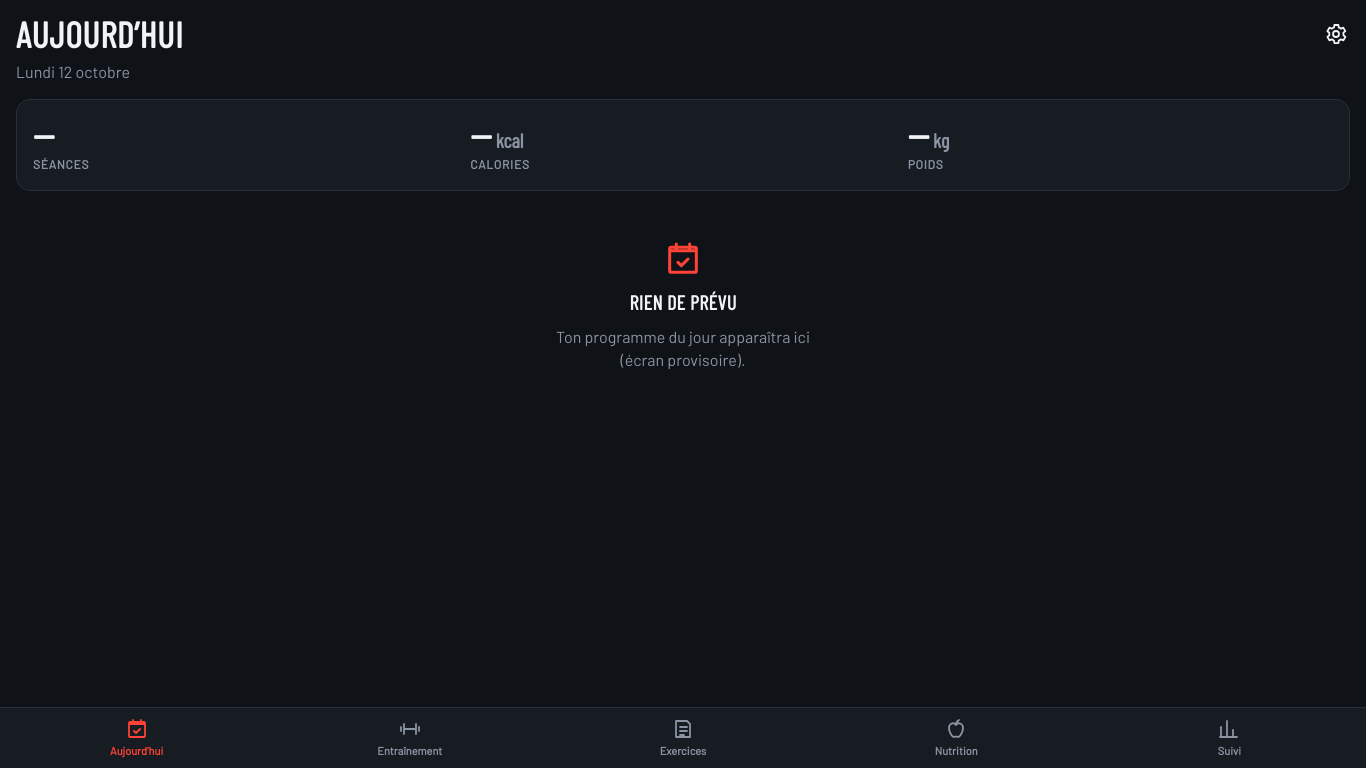
Test: Coque de l'application › ouvre les Réglages depuis Aujourd’hui et revient
Click the link named "Réglages" at point(1336, 34), box [1324,22,1348,46]
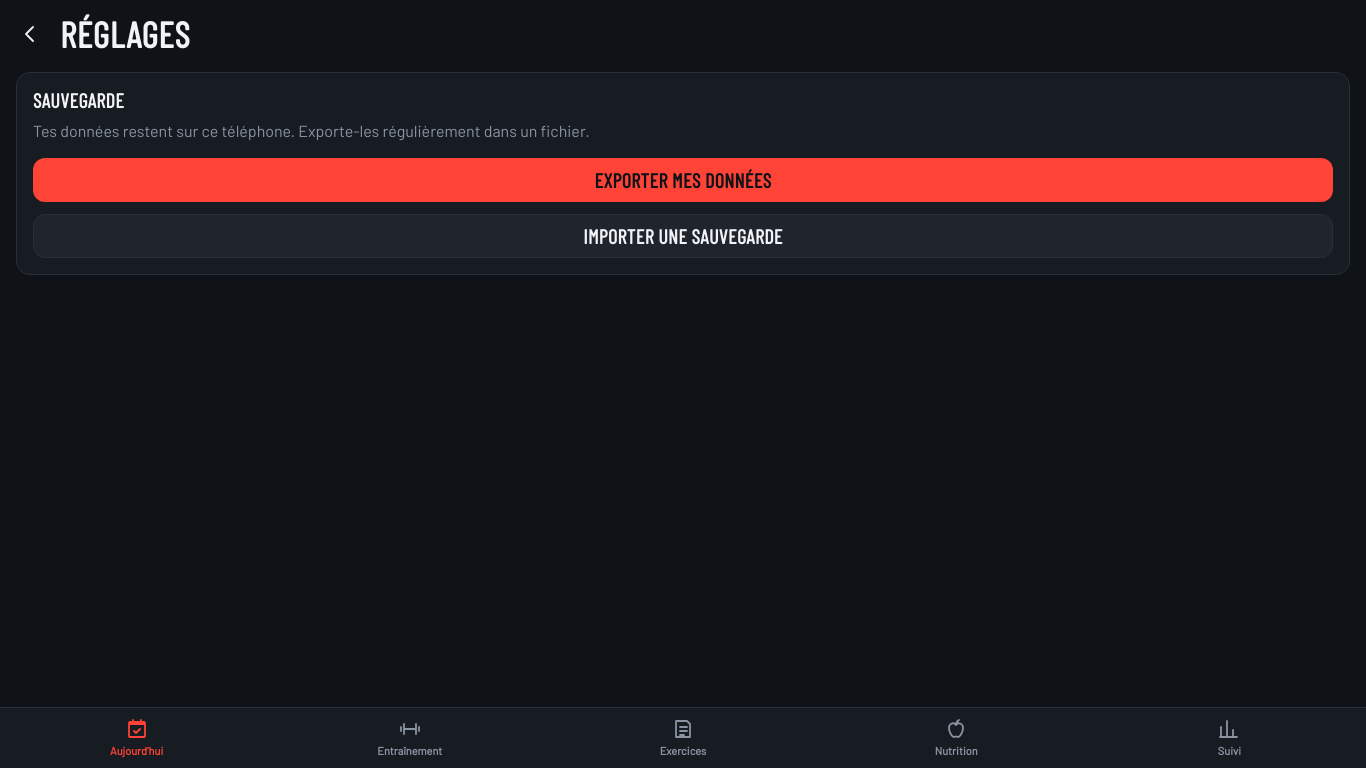
Check: the heading "Réglages" is shown, box [60,12,190,55]
Check: the button "Exporter mes données" is shown, box [33,158,1333,202]
Click the link named "Retour" at point(30, 34), box [18,22,42,46]
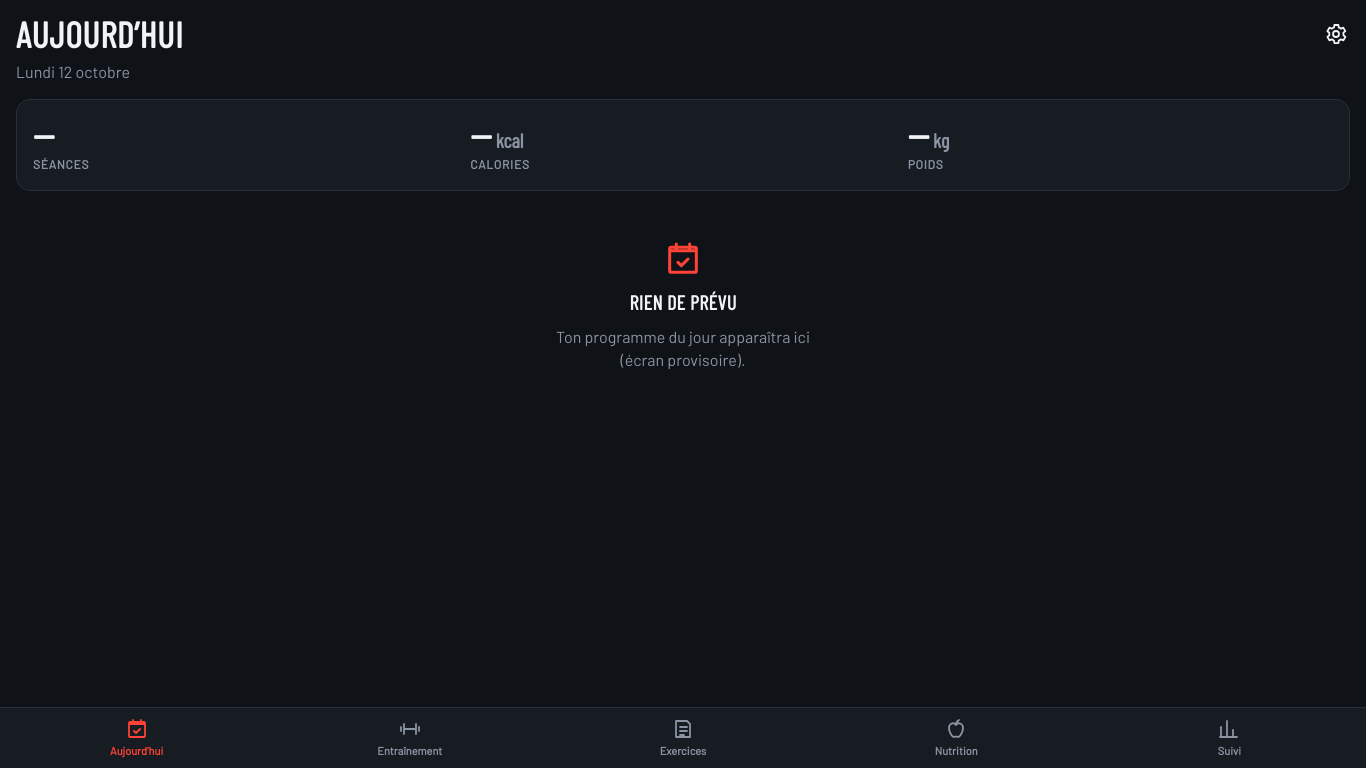
Check: the heading "Aujourd’hui" is shown, box [16,12,183,55]
